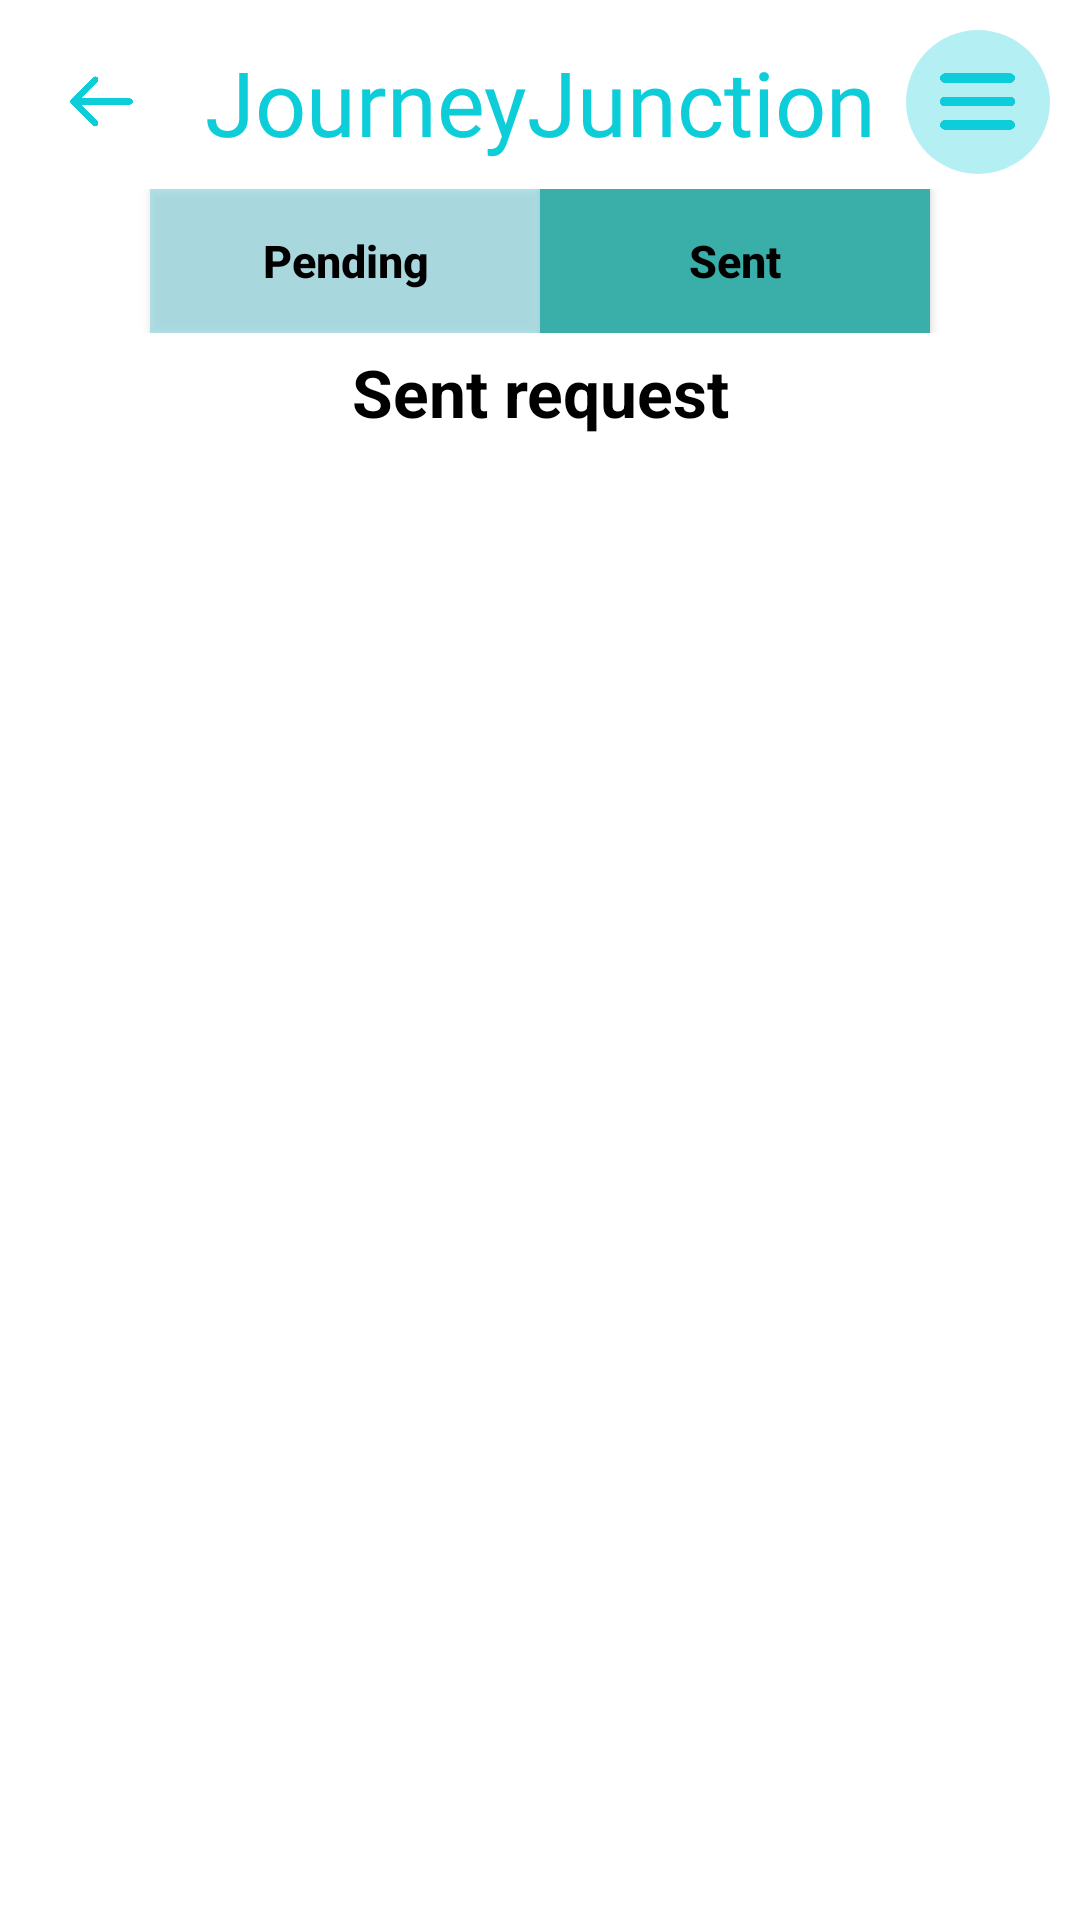

Named icons in this screenshot (1080w x 1920h) and their bounding boxes, (x1, y1, x2, y2):
back left: (70, 76, 133, 127)
Menu: (906, 30, 1050, 174)
